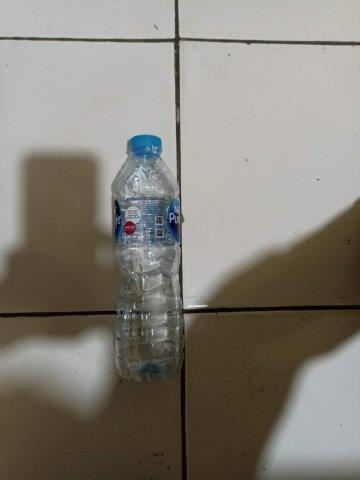botolplastik: (114, 135, 182, 382)
